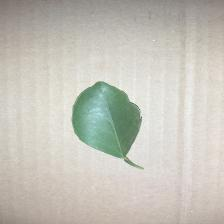healthy: (71, 79, 146, 158)
